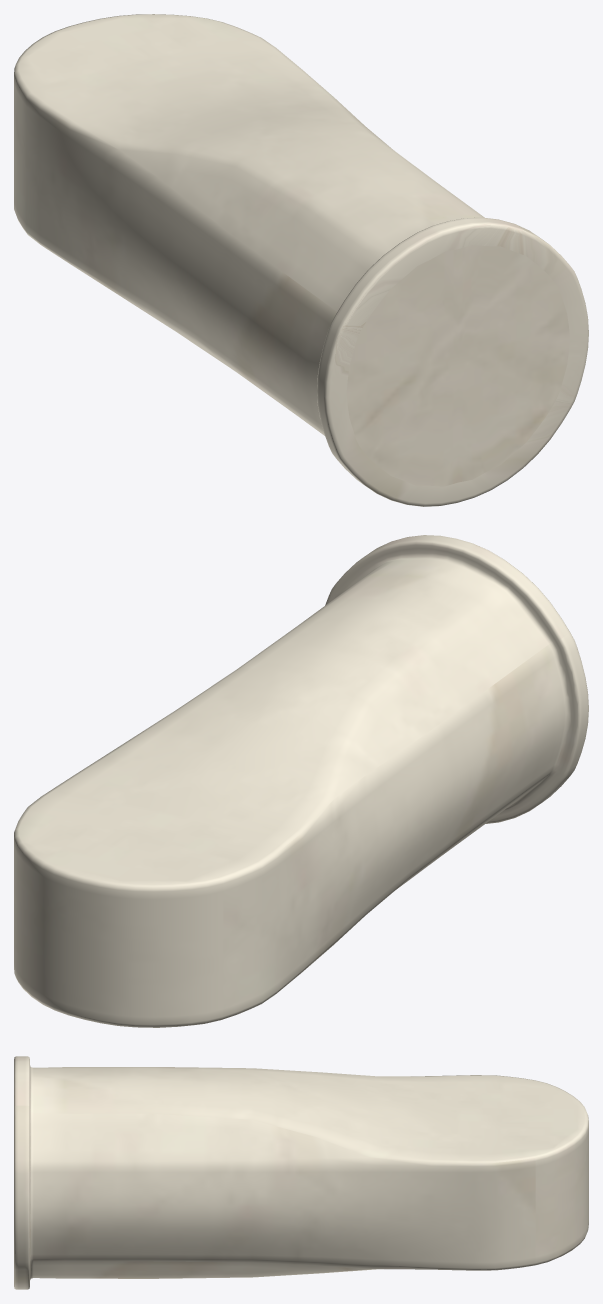
The model's file is PART2 (SUBDIVISION).glb.
3 renders of one model, top to bottom at view 1: azimuth 30°, elevation 25°; view 2: azimuth 150°, elevation 25°; view 3: azimuth 270°, elevation 25°, orthographic. The views are drawn at different scales.
Parts seen in each view (by area): view 1: CANADARM HD.002; view 2: CANADARM HD.002; view 3: CANADARM HD.002.
Boxes of the visible parts, bbox=[...] form: CANADARM HD.002: bbox=[14, 14, 588, 506]; CANADARM HD.002: bbox=[14, 535, 588, 1027]; CANADARM HD.002: bbox=[14, 1056, 588, 1289].
Bounding box in the file's own units: 0.1387 × 0.1387 × 0.341.
1 material, 1 textured.
